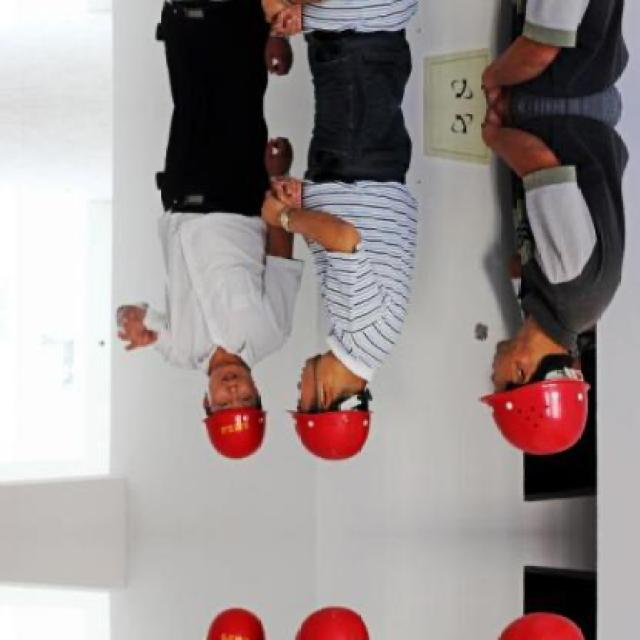con casco: (464, 292, 620, 468), (276, 356, 398, 475), (197, 343, 270, 464)
